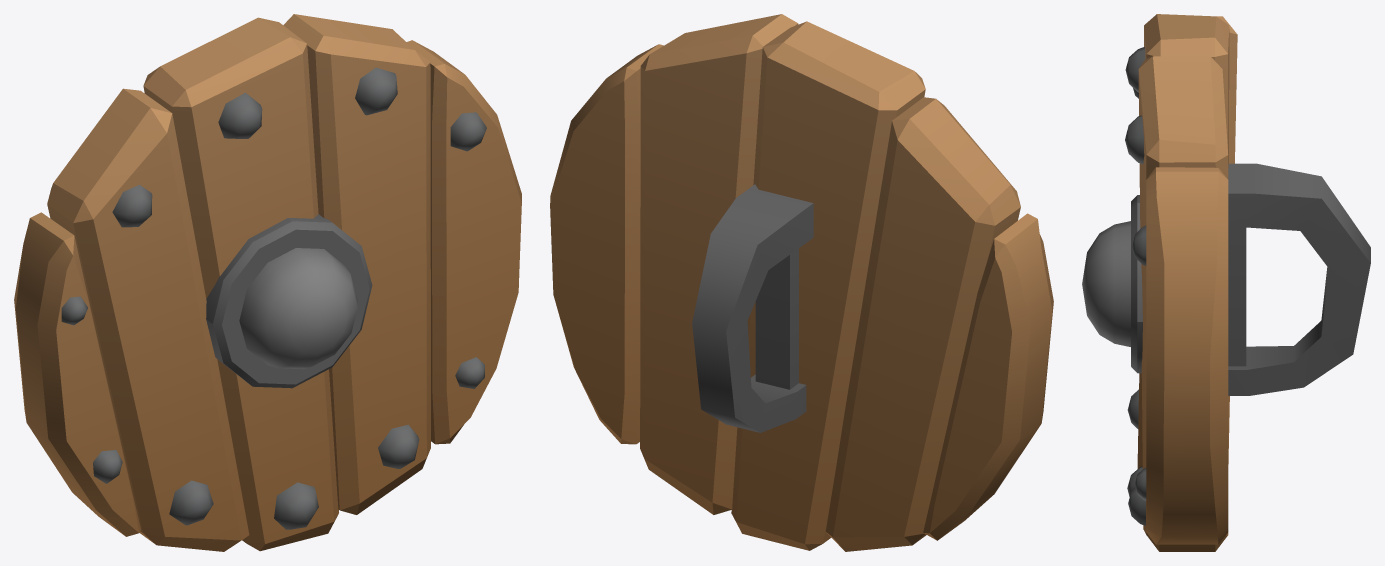
Rendered from Shield_LHand_1.fbx.
3 views of the same model, side by side, from view 1: azimuth 30°, elevation 25°; view 2: azimuth 150°, elevation 25°; view 3: azimuth 270°, elevation 25° (orthographic). The views are drawn at different scales.
Visible parts, largest first — view 1: Shield_LHand_1; view 2: Shield_LHand_1; view 3: Shield_LHand_1.
Boxes of the visible parts, x1,y1,x2,y2 form: Shield_LHand_1: [14, 14, 521, 551]; Shield_LHand_1: [550, 14, 1053, 551]; Shield_LHand_1: [1082, 14, 1370, 551].
Size of the model in its own units: 50.03 by 50.04 by 26.65.
